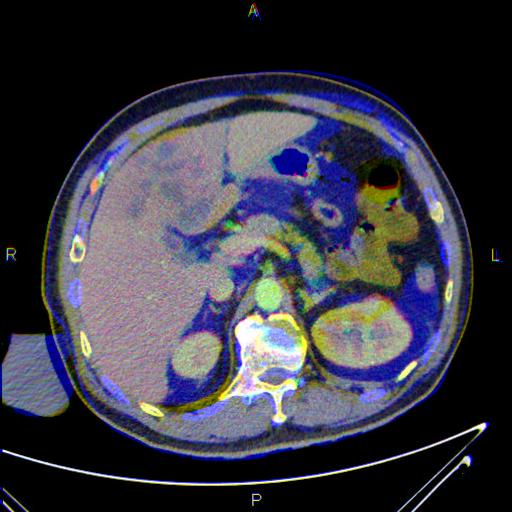Abscess: (130, 140, 218, 233)
